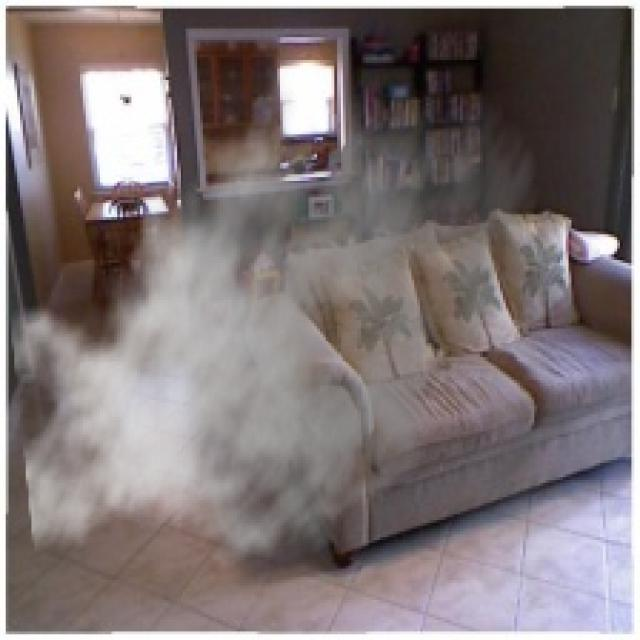smoke: (8, 34, 543, 589)
